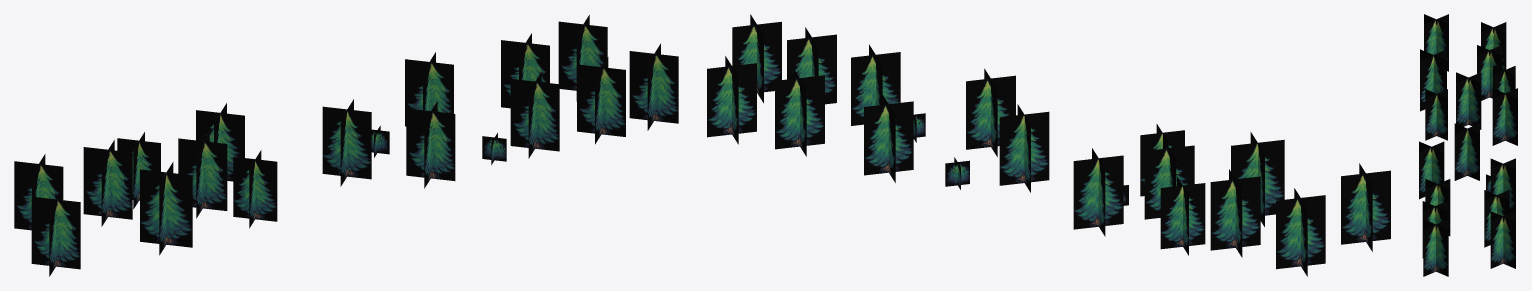
The model's file is Props1.glb.
The picture shows the model from 3 angles, left to right: view 1: azimuth 30°, elevation 25°; view 2: azimuth 150°, elevation 25°; view 3: azimuth 270°, elevation 25°; orthographic projection. The views are drawn at different scales.
Visible parts, largest first — view 1: Props1; view 2: Props1; view 3: Props1.
Part boxes in pixels (left/top/right/bottom): Props1: left=14, top=15, right=678, bottom=276; Props1: left=707, top=14, right=1390, bottom=276; Props1: left=1419, top=14, right=1517, bottom=276.
Bounding box in the file's own units: 8.7 × 0.9641 × 1.68.
1 material, 1 textured.
